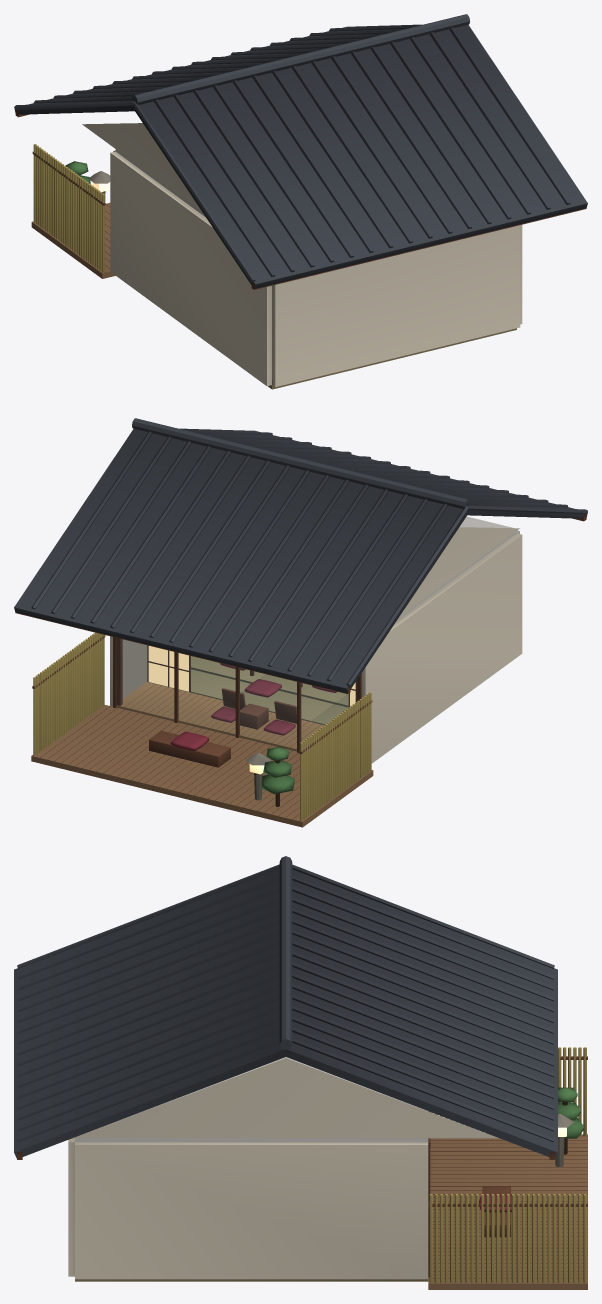
The model's file is hk-washitsu.glb.
The picture shows the model from 3 angles, top to bottom: view 1: azimuth 30°, elevation 25°; view 2: azimuth 150°, elevation 25°; view 3: azimuth 270°, elevation 25°; orthographic projection. The views are drawn at different scales.
Parts seen in each view (by area): view 1: Room_rooftile, Room_plaster, Room_bamboo, Room_deck, Room_hinokiDark, Room_subfloor; view 2: Room_rooftile, Room_plaster, Room_deck, Room_glass, Room_bamboo, Room_hinokiDark, Room_hinoki, Room_tatami, Room_zabuton, Room_washi, Room_leaf, Room_ceiling; view 3: Room_rooftile, Room_plaster, Room_deck, Room_bamboo, Room_hinokiDark, Room_ceiling, Room_subfloor, Room_leaf.
Boxes of the visible parts, left/top/right/bottom form: Room_rooftile: left=14, top=14, right=587, bottom=288; Room_plaster: left=82, top=123, right=522, bottom=387; Room_bamboo: left=33, top=144, right=104, bottom=272; Room_deck: left=31, top=203, right=115, bottom=278; Room_hinokiDark: left=15, top=110, right=586, bottom=289; Room_subfloor: left=268, top=328, right=516, bottom=389; Room_rooftile: left=14, top=418, right=587, bottom=693; Room_plaster: left=110, top=527, right=522, bottom=763; Room_deck: left=31, top=705, right=373, bottom=827; Room_glass: left=120, top=639, right=355, bottom=748; Room_bamboo: left=33, top=632, right=371, bottom=821; Room_hinokiDark: left=15, top=514, right=586, bottom=821; Room_hinoki: left=116, top=682, right=324, bottom=751; Room_tatami: left=191, top=656, right=348, bottom=724; Room_zabuton: left=170, top=663, right=337, bottom=750; Room_washi: left=148, top=646, right=355, bottom=774; Room_leaf: left=260, top=746, right=295, bottom=794; Room_ceiling: left=396, top=516, right=516, bottom=621; Room_rooftile: left=14, top=856, right=557, bottom=1158; Room_plaster: left=68, top=1058, right=498, bottom=1279; Room_deck: left=428, top=1134, right=587, bottom=1289; Room_bamboo: left=429, top=1047, right=586, bottom=1282; Room_hinokiDark: left=17, top=1056, right=587, bottom=1278; Room_ceiling: left=75, top=1057, right=428, bottom=1142; Room_subfloor: left=75, top=1279, right=428, bottom=1281; Room_leaf: left=558, top=1087, right=583, bottom=1138.
Bounding box in the file's own units: 7.65 × 5.18 × 10.07.
